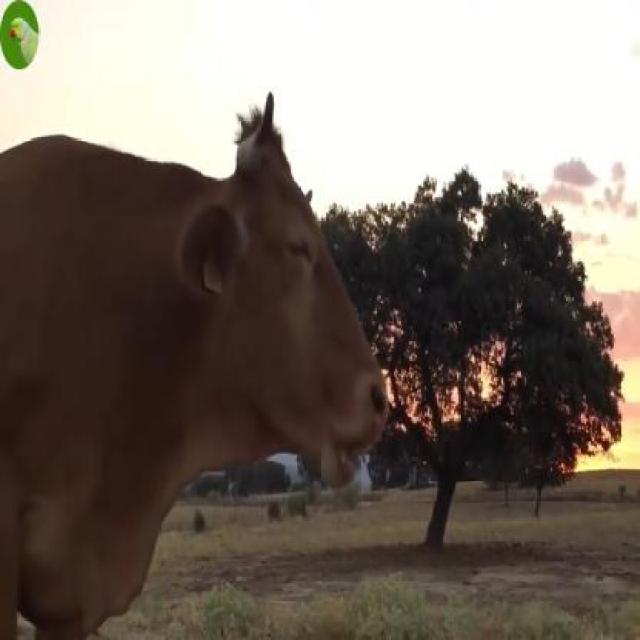Cow: (175, 89, 388, 488)
